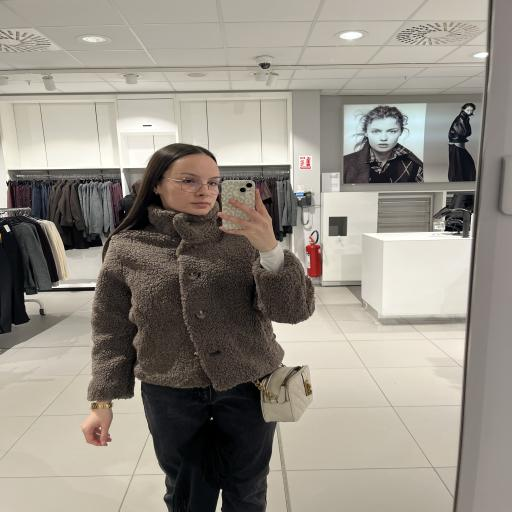marija: (162, 153, 222, 216)
